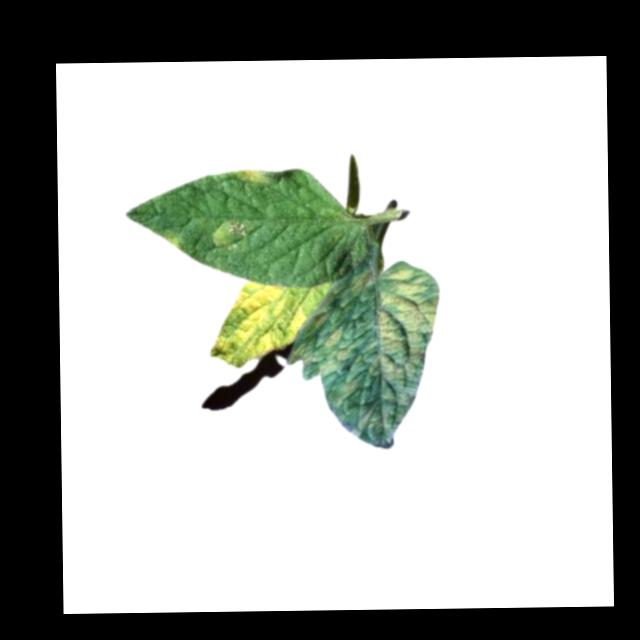Leaf_Mold: (207, 280, 309, 369), (288, 317, 378, 407), (377, 266, 445, 384), (211, 218, 254, 247), (351, 268, 376, 297), (159, 226, 185, 251), (239, 168, 272, 186)
